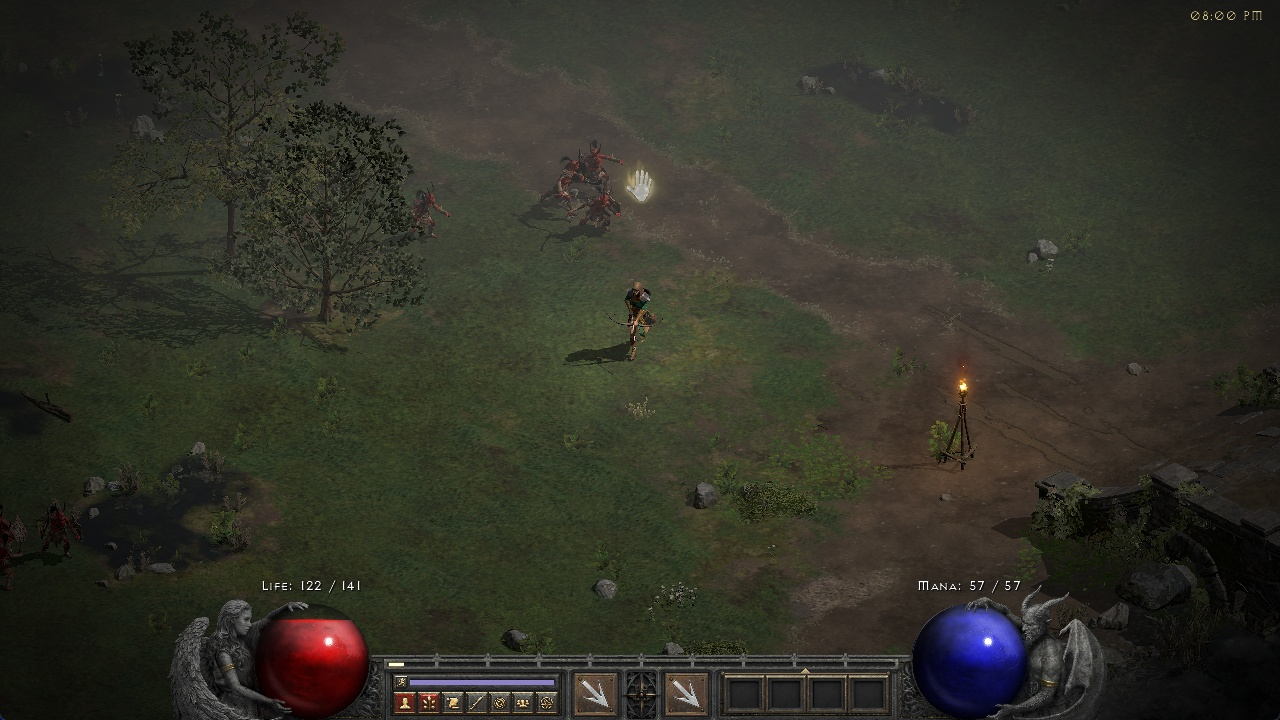fallen: (409, 183, 452, 242), (581, 189, 625, 235), (582, 144, 618, 185), (552, 157, 577, 209)
